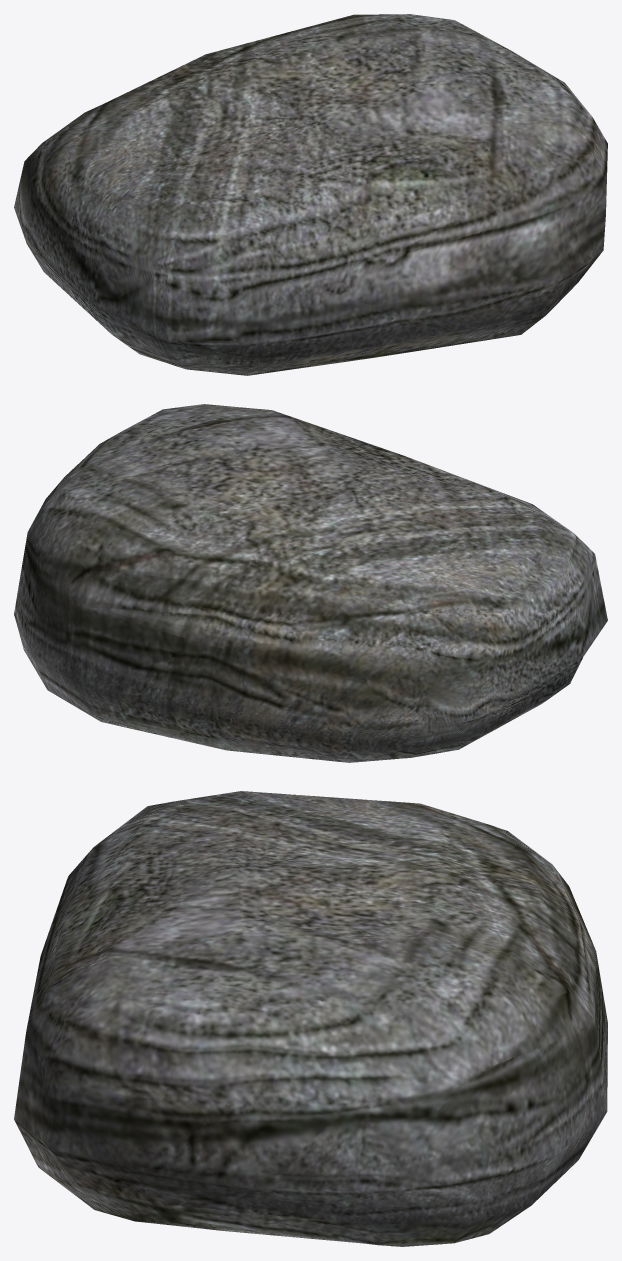
File: SM_Rock02.FBX
3 renders of one model, top to bottom at view 1: azimuth 30°, elevation 25°; view 2: azimuth 150°, elevation 25°; view 3: azimuth 270°, elevation 25°, orthographic. The views are drawn at different scales.
Parts seen in each view (by area): view 1: SM_Rock02; view 2: SM_Rock02; view 3: SM_Rock02.
Boxes of the visible parts, x1,y1,x2,y2 form: SM_Rock02: [14, 14, 607, 375]; SM_Rock02: [14, 404, 607, 762]; SM_Rock02: [14, 791, 607, 1246].
Size of what is drawn, in the model's own units: 115 by 95.17 by 50.82.
